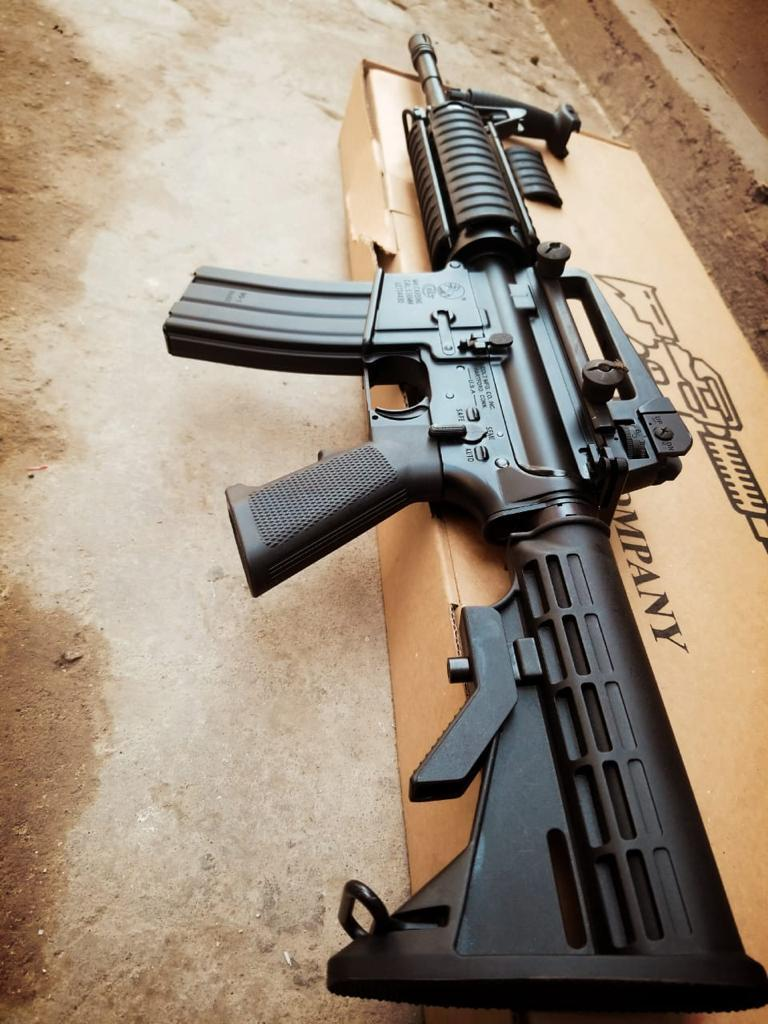weapon: (164, 34, 768, 1013)
